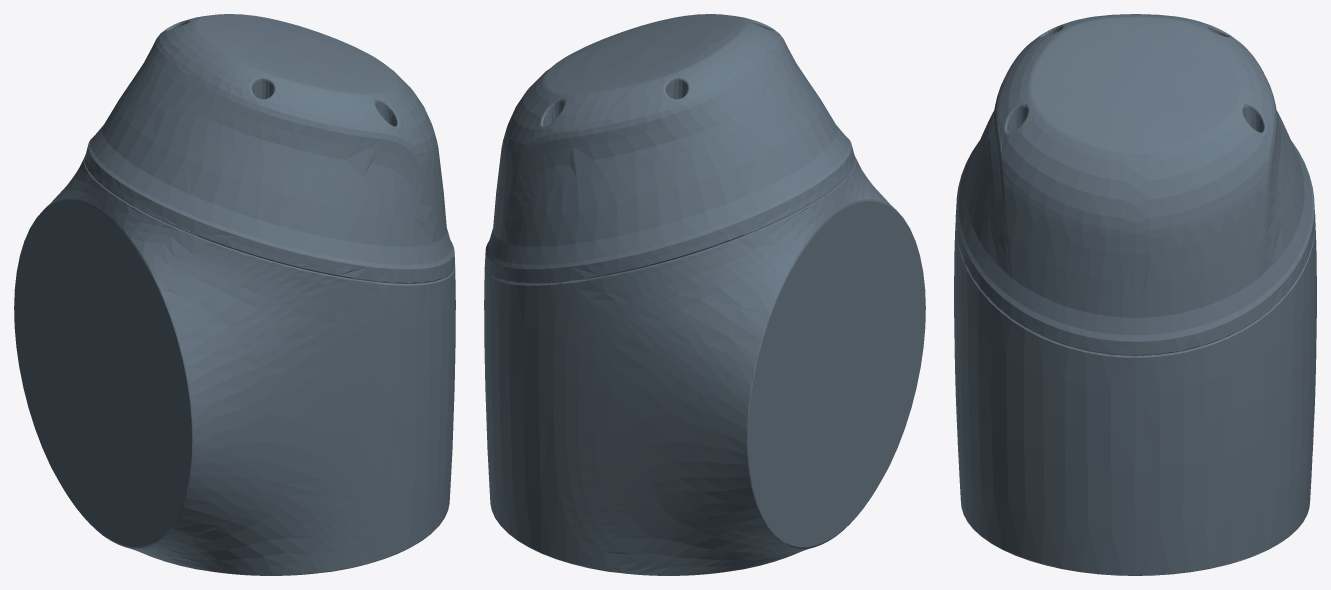
The picture shows the model from 3 angles, left to right: view 1: azimuth 30°, elevation 25°; view 2: azimuth 150°, elevation 25°; view 3: azimuth 270°, elevation 25°; orthographic projection. The views are drawn at different scales.
Parts seen in each view (by area): view 1: A0509_2_2; view 2: A0509_2_2; view 3: A0509_2_2.
Boxes of the visible parts, x1,y1,x2,y2 form: A0509_2_2: (14, 14, 455, 575); A0509_2_2: (484, 14, 925, 575); A0509_2_2: (954, 14, 1316, 575).
Bounding box in the file's own units: 125 × 122 × 170.
